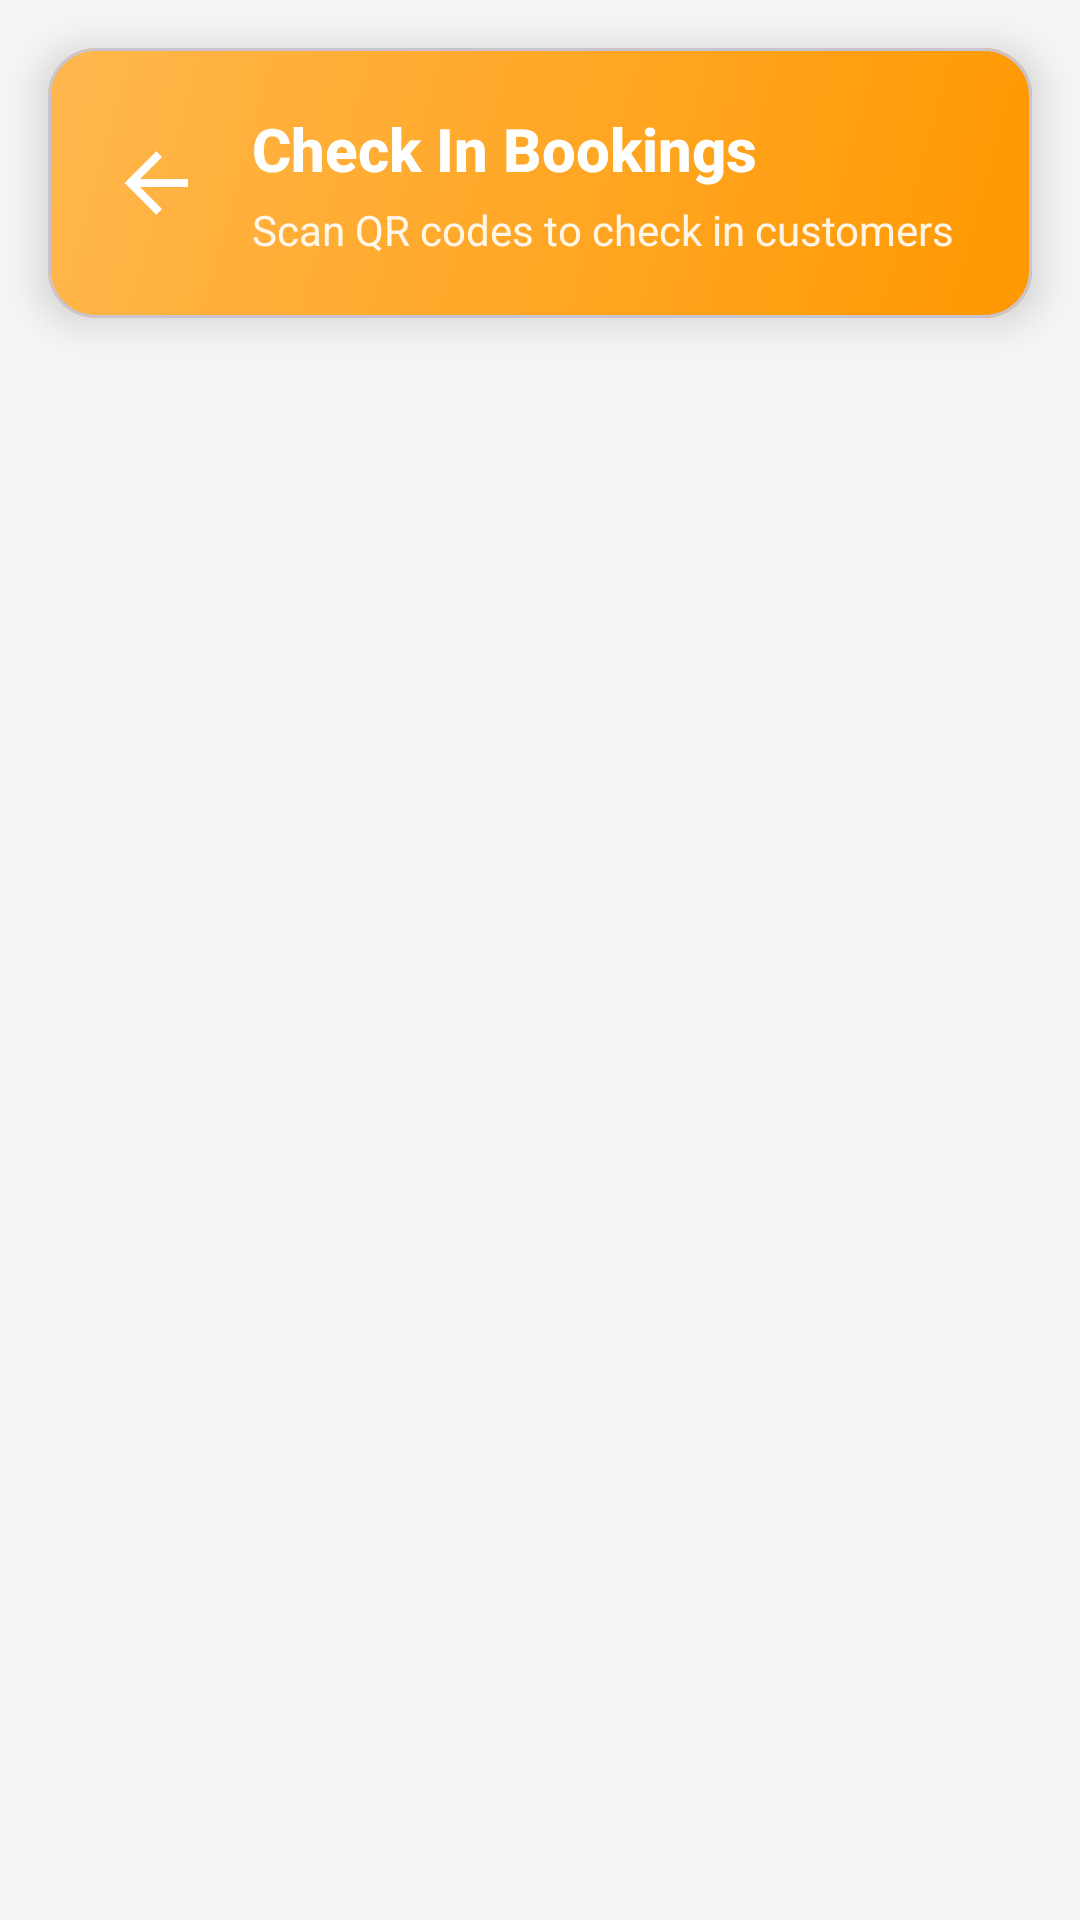

Where icons sit on this 1080*1920 app screen, as (x1, y1, x2, y2):
arrow back: (125, 151, 188, 215)
